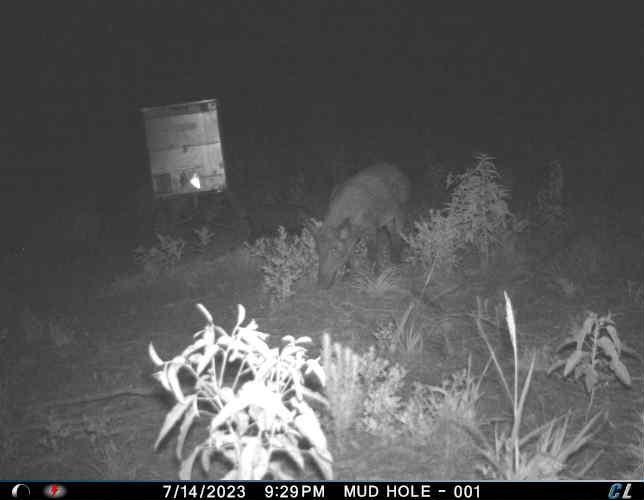Hog: (308, 158, 414, 290), (242, 201, 315, 246)
